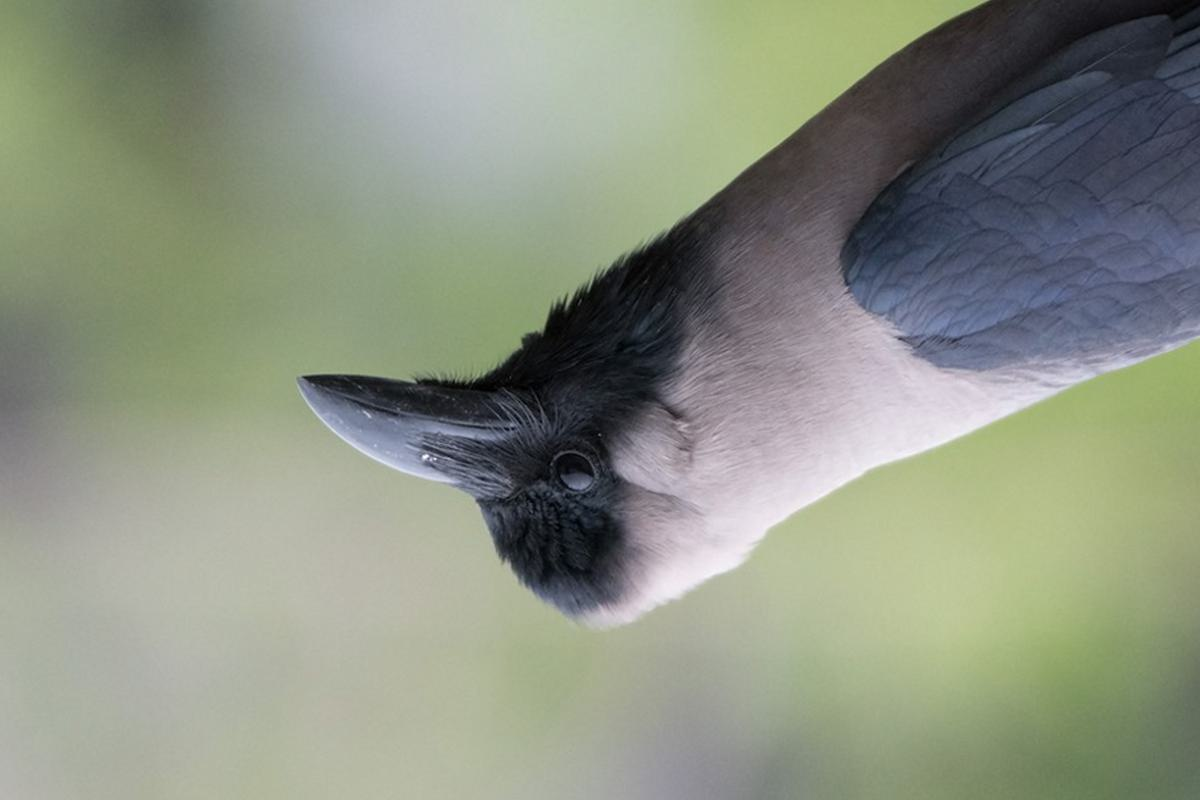crow: (288, 1, 1200, 640)
